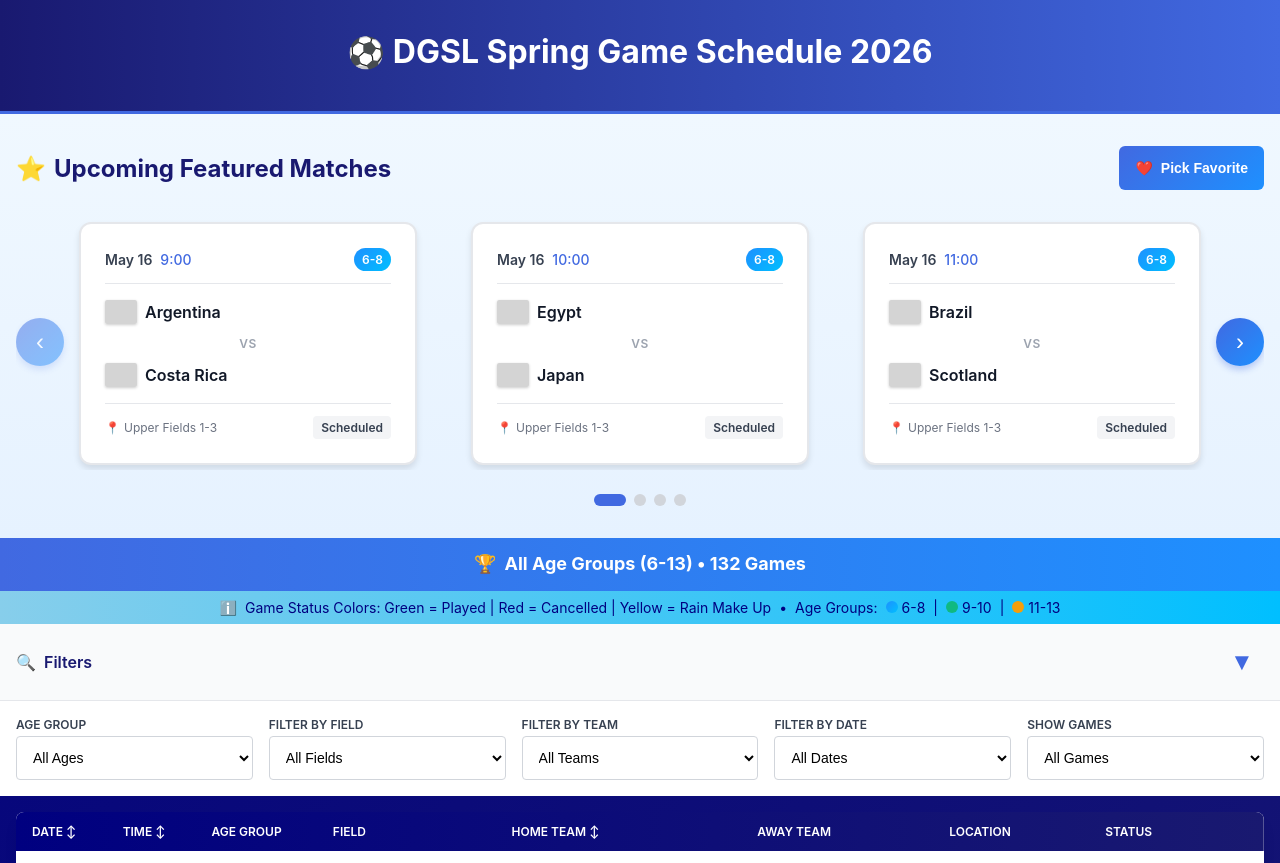
App › should close team selection dialog
# Open dialog
Click the button with aria-label "Choose favorite team": (1192, 168) [1119, 146, 1264, 190]
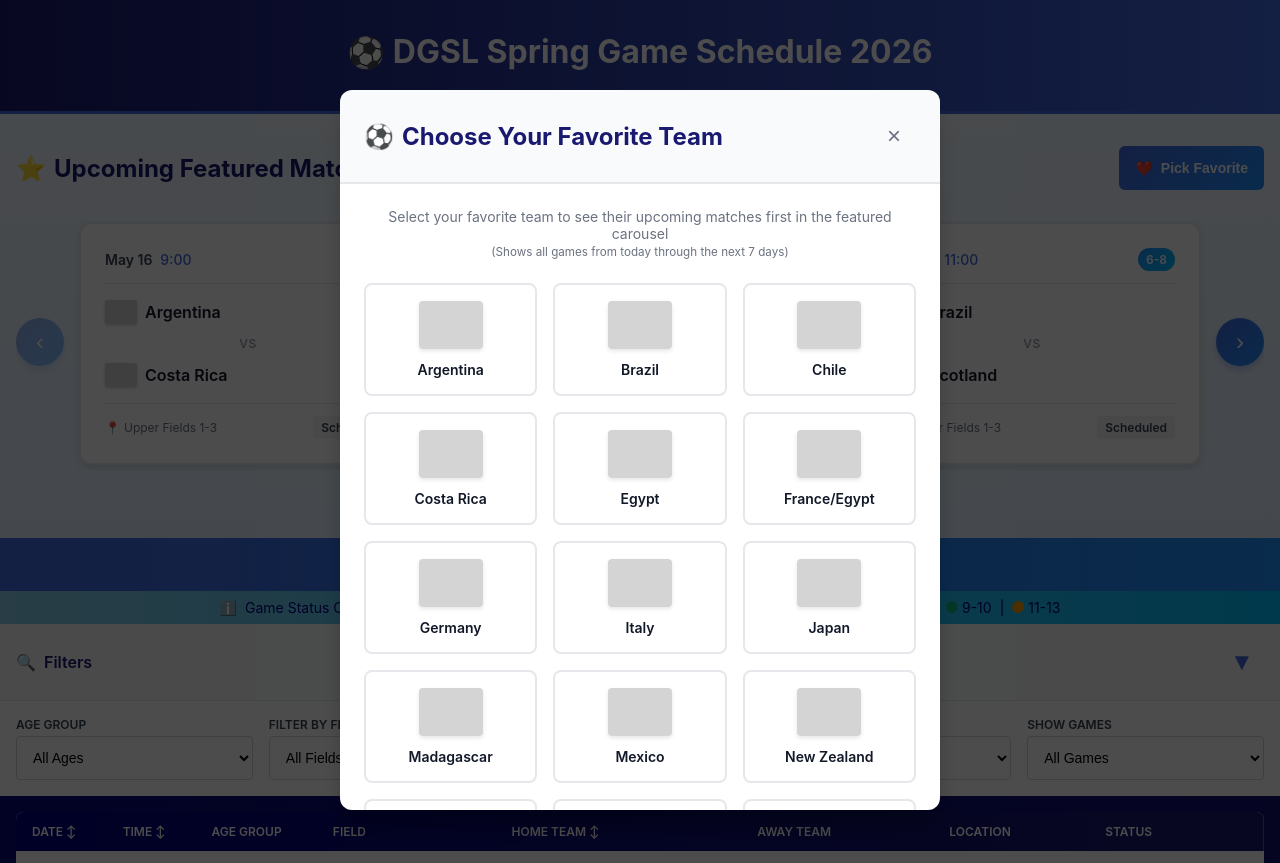
# Close dialog
Click the button named "Close dialog": (894, 136) [872, 114, 916, 158]
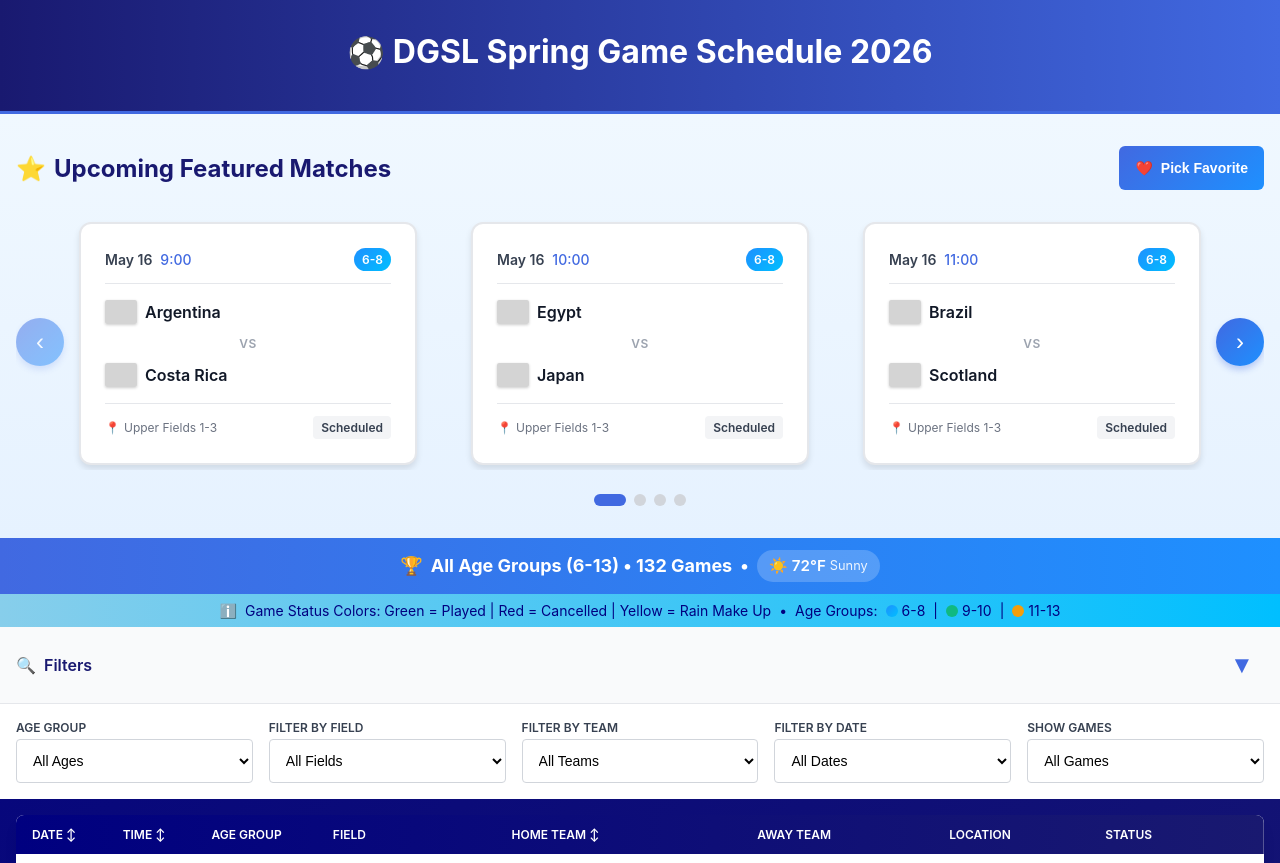
Result: the heading "Choose Your Favorite Team" is gone
